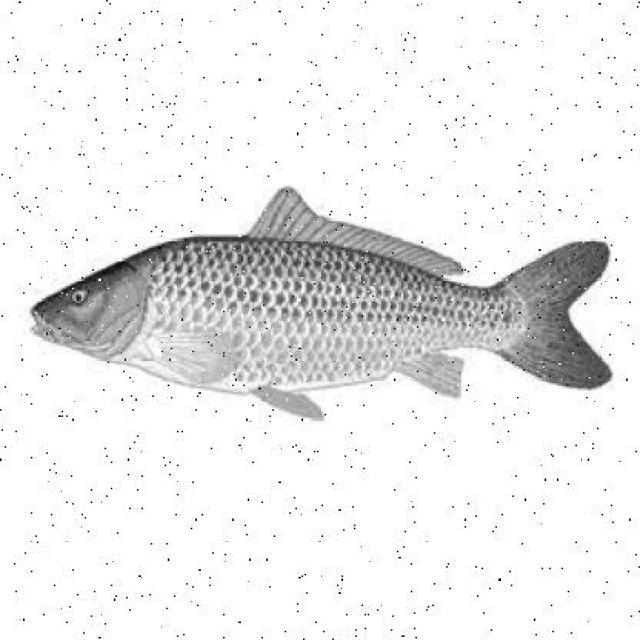ikan-mas: (29, 215, 617, 408)
